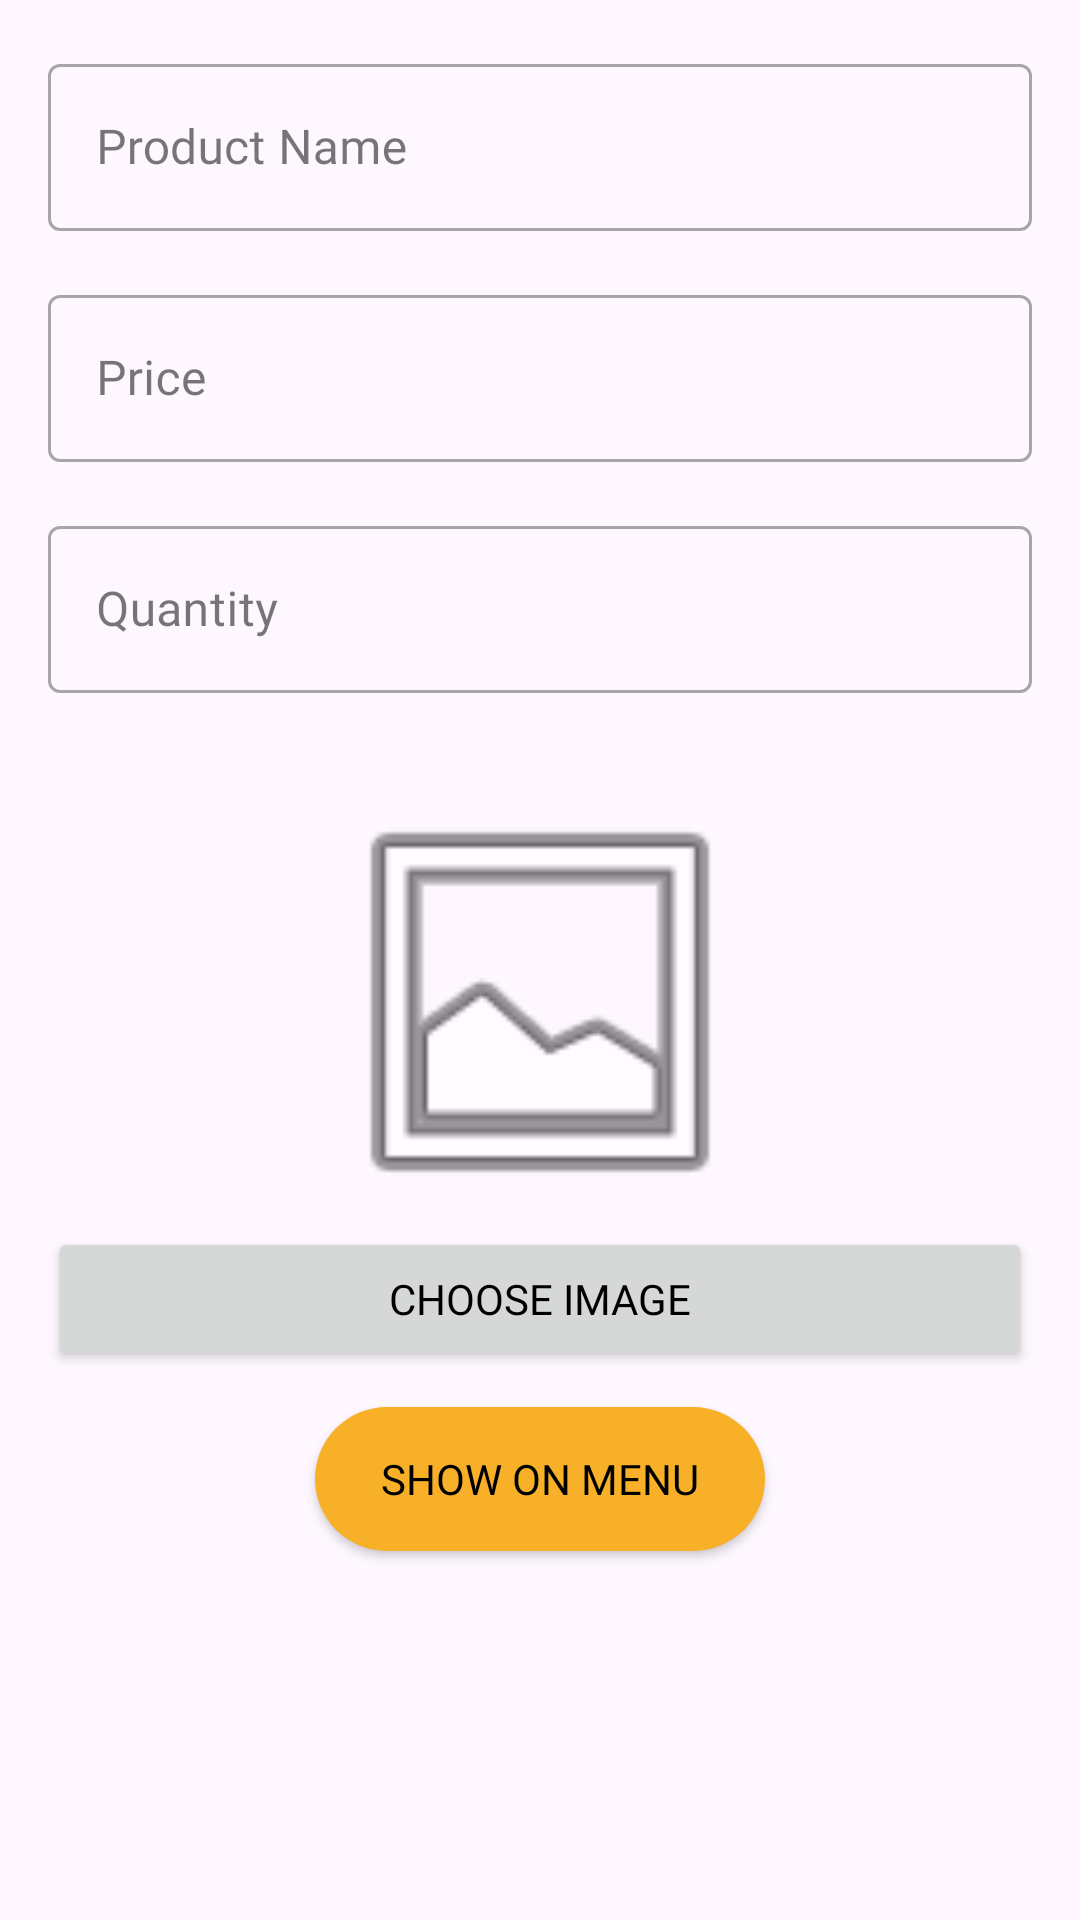

Where to tap for icons on this 1080px×1920px app screen, as point (x, y):
Image Preview: point (540, 1002)
